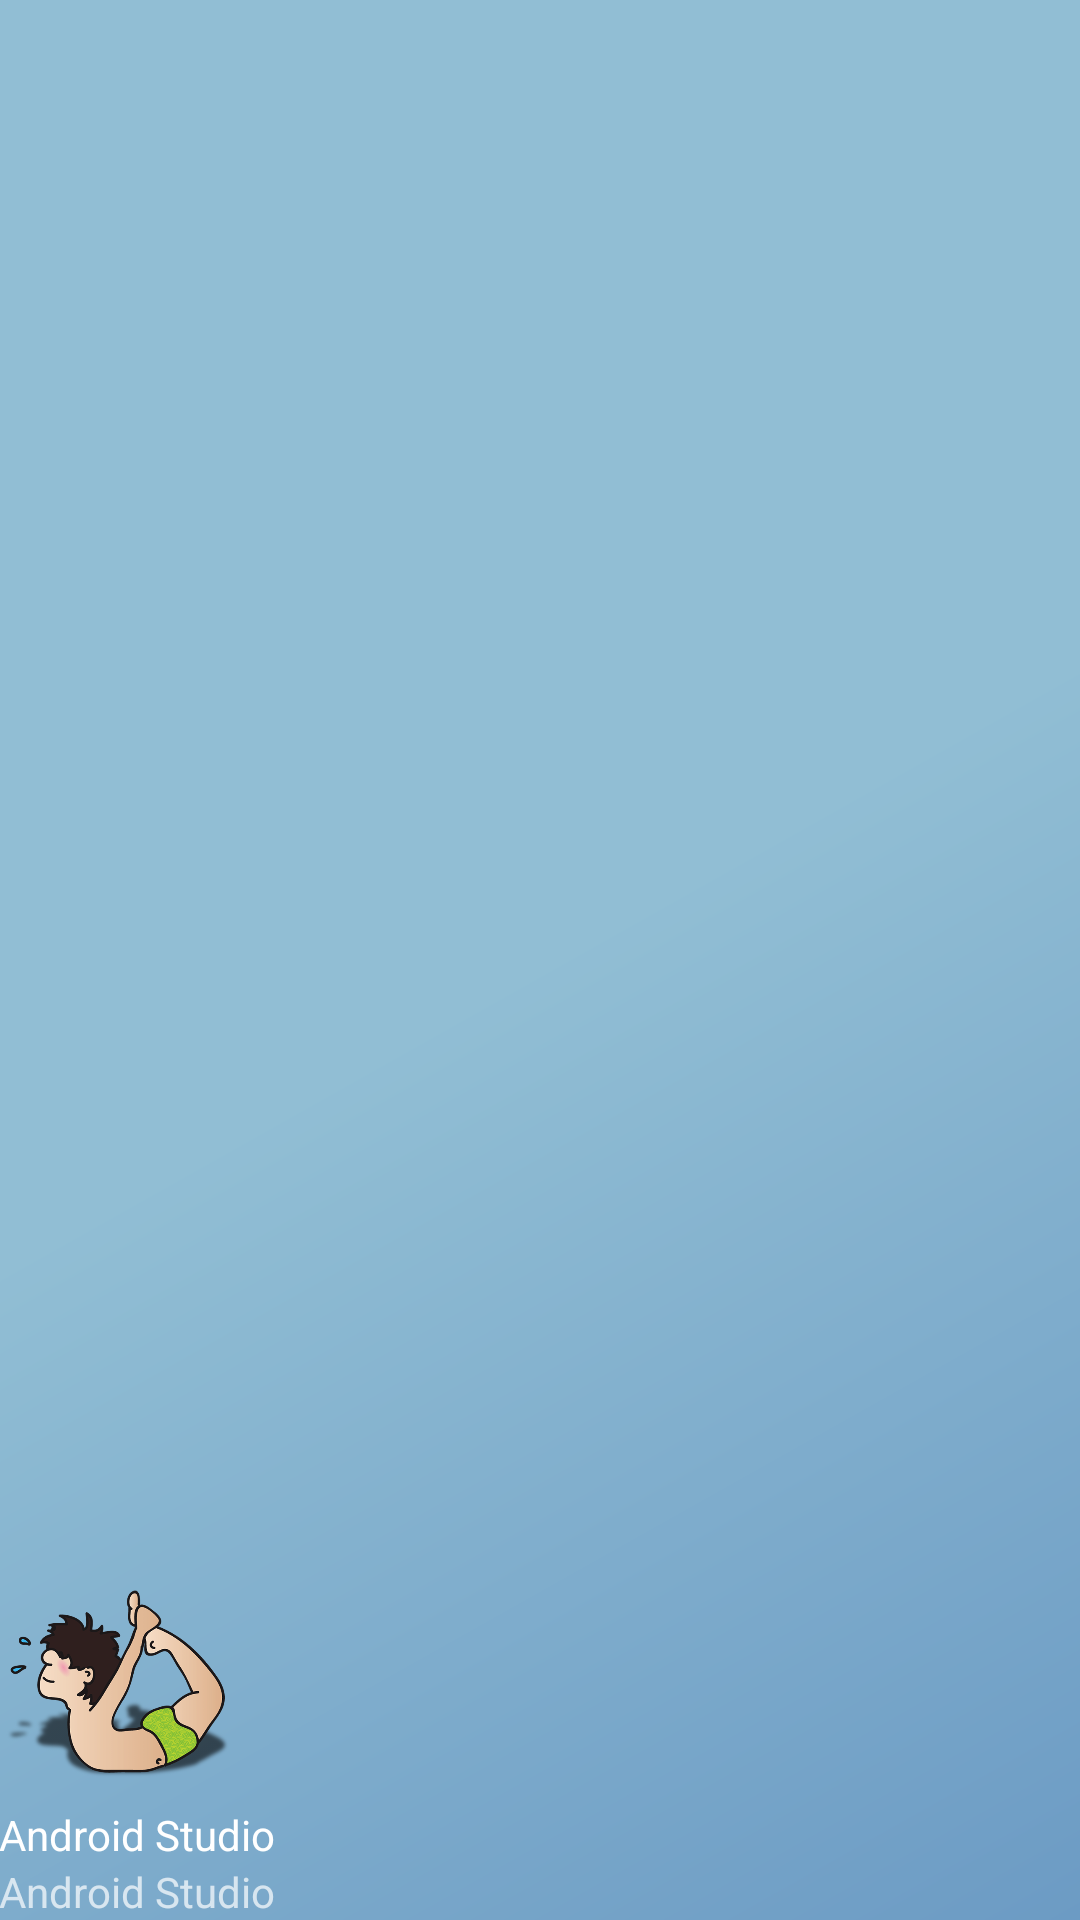

Locate icon controls on the screen. Image size 1080w x 1920h, boxes as (x1, y1, x2, y2).
yoga: (10, 1590, 226, 1774)
